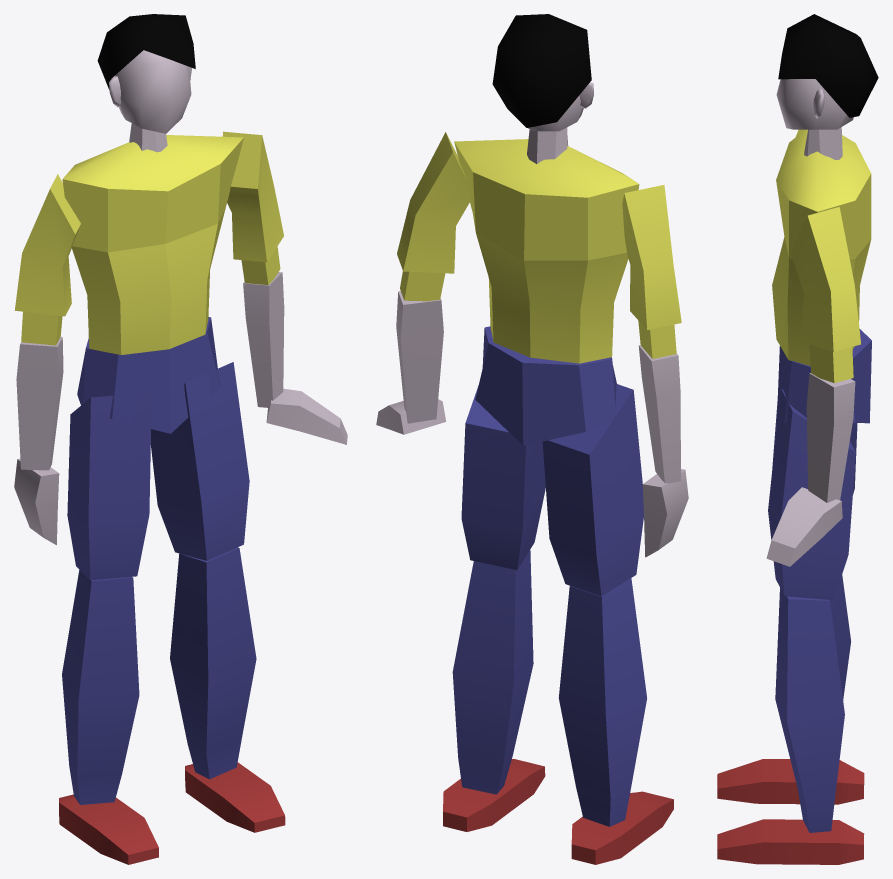
Rendered from idleLamp .fbx.
3 views of the same model, side by side, from view 1: azimuth 30°, elevation 25°; view 2: azimuth 150°, elevation 25°; view 3: azimuth 270°, elevation 25° (orthographic). The views are drawn at different scales.
Visible parts, largest first — view 1: torso, E_perna02, D_perna02, E_perna01, D_perna01, pelvis, D_ombro, E_ombro, head, D_braco, D_pe, E_pe (+4 smaller); view 2: torso, D_perna02, D_perna01, E_perna02, E_perna01, pelvis, cabelo, E_ombro, D_ombro, E_braco, D_braco, D_pe (+4 smaller); view 3: E_perna02, torso, E_ombro, E_perna01, cabelo, E_pe, E_braco, D_pe, head, E_mao1, pelvis, D_perna02.
Part boxes in pixels (x1,y1,x2,y2): torso: (62, 135, 243, 354); E_perna02: (170, 547, 256, 779); D_perna02: (62, 570, 139, 804); E_perna01: (151, 362, 249, 560); D_perna01: (67, 392, 151, 580); pelvis: (77, 317, 220, 433); D_ombro: (14, 174, 80, 345); E_ombro: (222, 131, 283, 284); head: (109, 50, 191, 152); D_braco: (16, 336, 63, 470); D_pe: (59, 794, 158, 864); E_pe: (185, 762, 285, 832); torso: (454, 139, 639, 363); D_perna02: (558, 578, 647, 826); D_perna01: (542, 384, 643, 596); E_perna02: (452, 550, 533, 794); E_perna01: (461, 385, 545, 569); pelvis: (475, 326, 616, 445); cabelo: (492, 14, 591, 127); E_ombro: (397, 132, 470, 301); D_ombro: (622, 185, 681, 358); E_braco: (396, 291, 443, 423); D_braco: (638, 345, 680, 483); D_pe: (571, 791, 673, 864); E_perna02: (775, 588, 844, 832); torso: (772, 129, 871, 366); E_ombro: (791, 207, 860, 383); E_perna01: (768, 388, 855, 600); cabelo: (778, 14, 878, 117); E_pe: (717, 819, 864, 864); E_braco: (806, 373, 855, 502); D_pe: (717, 759, 864, 804); head: (776, 79, 853, 159); E_mao1: (766, 487, 842, 566); pelvis: (776, 329, 871, 425); D_perna02: (830, 574, 851, 699).
Size of the model in its own units: 20.11 by 48.56 by 8.85.
